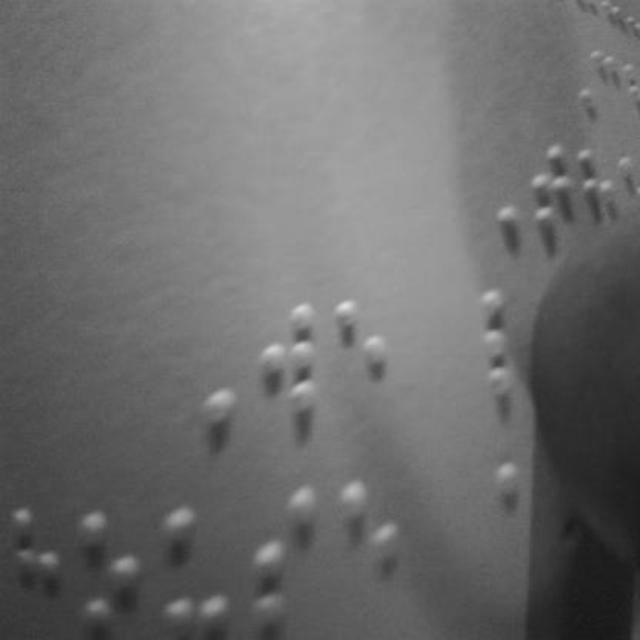braiile: (246, 472, 320, 640), (76, 490, 150, 640), (0, 492, 72, 640), (157, 494, 229, 640), (338, 478, 406, 632), (254, 294, 326, 426), (331, 293, 395, 423)
